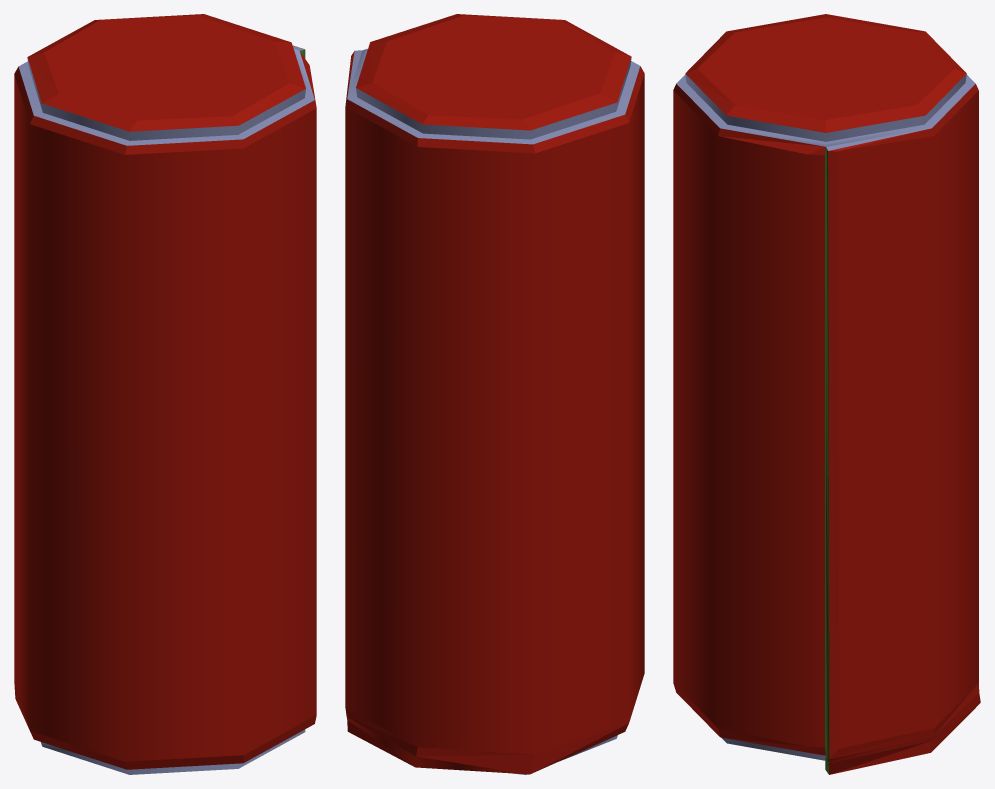
The model's file is cylinderfixed (2).fbx.
3 renders of one model, left to right at view 1: azimuth 30°, elevation 25°; view 2: azimuth 150°, elevation 25°; view 3: azimuth 270°, elevation 25°, orthographic. The views are drawn at different scales.
Visible parts, largest first — view 1: Cylinder001; view 2: Cylinder001; view 3: Cylinder001.
Part boxes in pixels (left/top/right/bottom): Cylinder001: left=14, top=14, right=316, bottom=774; Cylinder001: left=345, top=14, right=644, bottom=774; Cylinder001: left=673, top=14, right=980, bottom=774.
Bounding box in the file's own units: 54.77 × 124 × 53.97.
